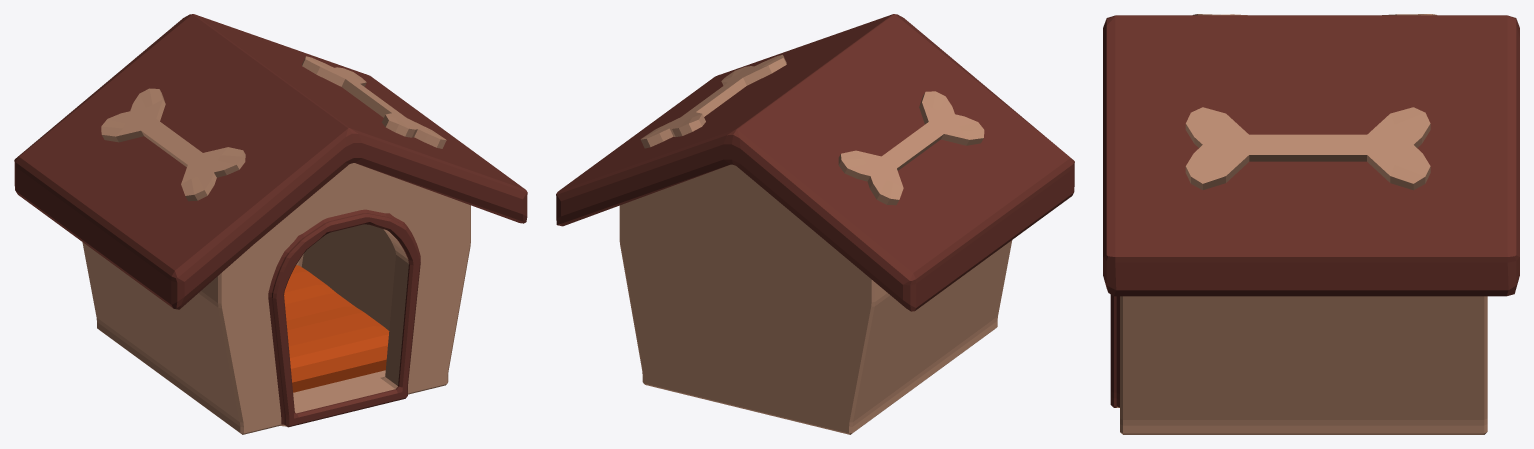
Rendered from dog_house_garden.fbx.
3 renders of one model, left to right at view 1: azimuth 30°, elevation 25°; view 2: azimuth 150°, elevation 25°; view 3: azimuth 270°, elevation 25°, orthographic. The views are drawn at different scales.
Visible parts, largest first — view 1: dog_hause_garden, Cube.053, Cube.002, Cube.085, Cube.105, Cube.106; view 2: dog_hause_garden, Cube.053, Cube.105, Cube.106; view 3: dog_hause_garden, Cube.053, Cube.106, Cube.085.
Part boxes in pixels (box(x1,y1,x2,y2)): dog_hause_garden: box(14, 14, 527, 309); Cube.053: box(82, 163, 470, 434); Cube.002: box(284, 265, 389, 392); Cube.085: box(268, 209, 420, 427); Cube.105: box(101, 88, 245, 201); Cube.106: box(302, 56, 446, 148); dog_hause_garden: box(556, 14, 1074, 311); Cube.053: box(619, 164, 1012, 434); Cube.105: box(838, 91, 984, 205); Cube.106: box(640, 54, 786, 148); dog_hause_garden: box(1103, 15, 1519, 296); Cube.053: box(1116, 296, 1487, 434); Cube.106: box(1185, 107, 1430, 190); Cube.085: box(1110, 294, 1119, 407).
Size of the model in its own units: 134 by 102 by 108.
